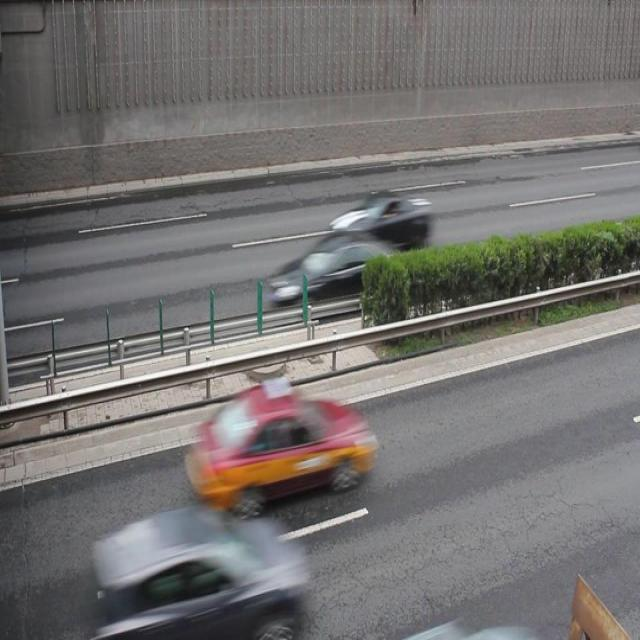car: (92, 501, 308, 640), (184, 382, 377, 514), (266, 230, 403, 312), (327, 188, 432, 252)
